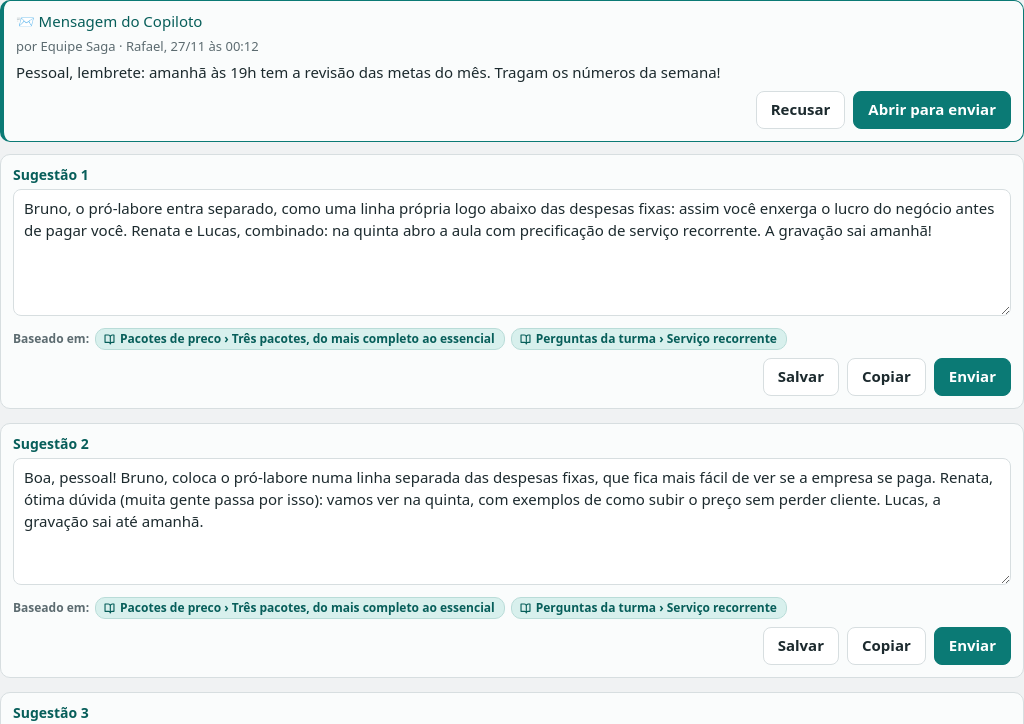
Scenario: Follow-up do Copiloto (v0.7.0) › "Recusar" pede o motivo (opcional) e tira o aviso
This screenshot has width=1024, height=724.
Step 1. Click the button "Recusar" → x=801, y=110, box [756,91,845,129]
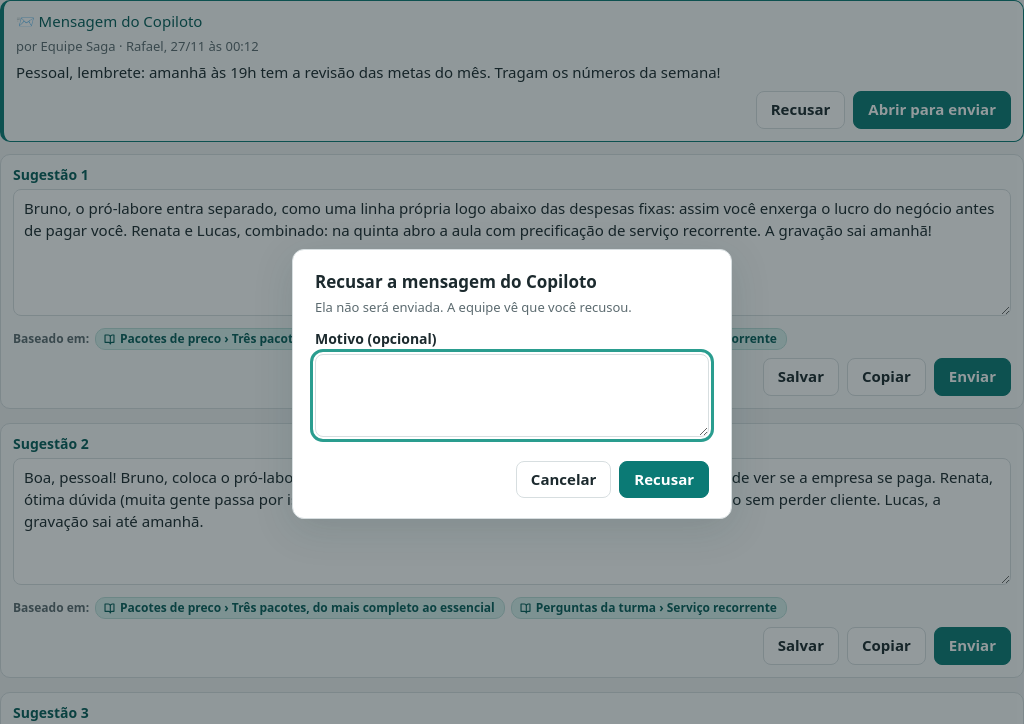
Step 2. Type "O encontro foi remarcado" into the text box labelled "Motivo (opcional)" → x=512, y=395, box [315,354,709,437]
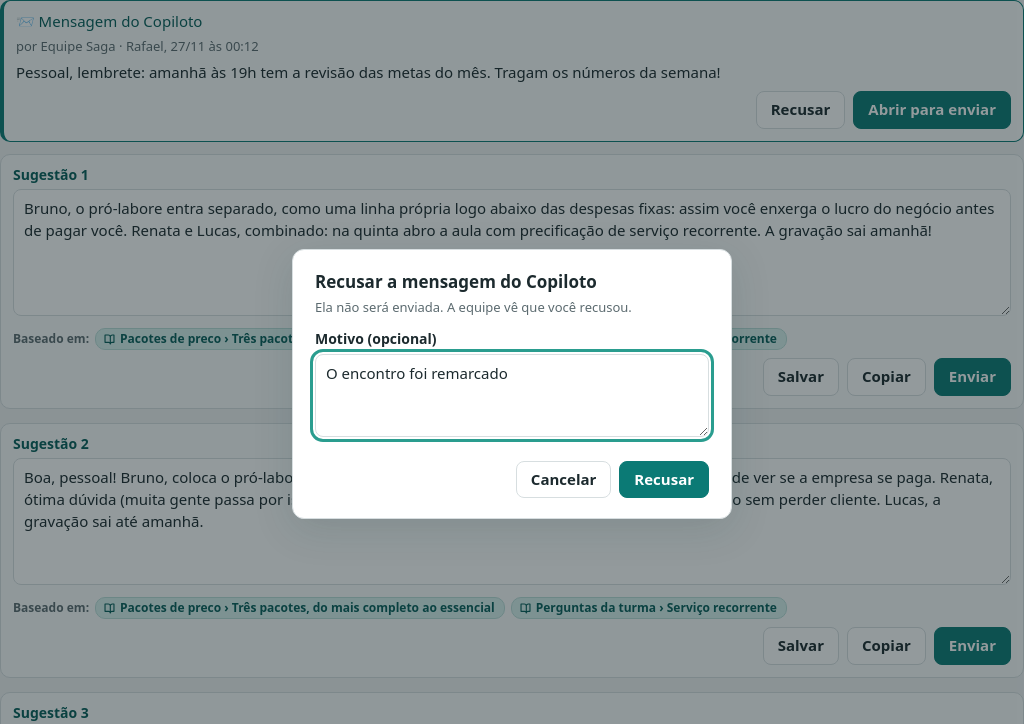
Step 3. Click the button "Recusar" → x=664, y=479, box [619,460,709,498]
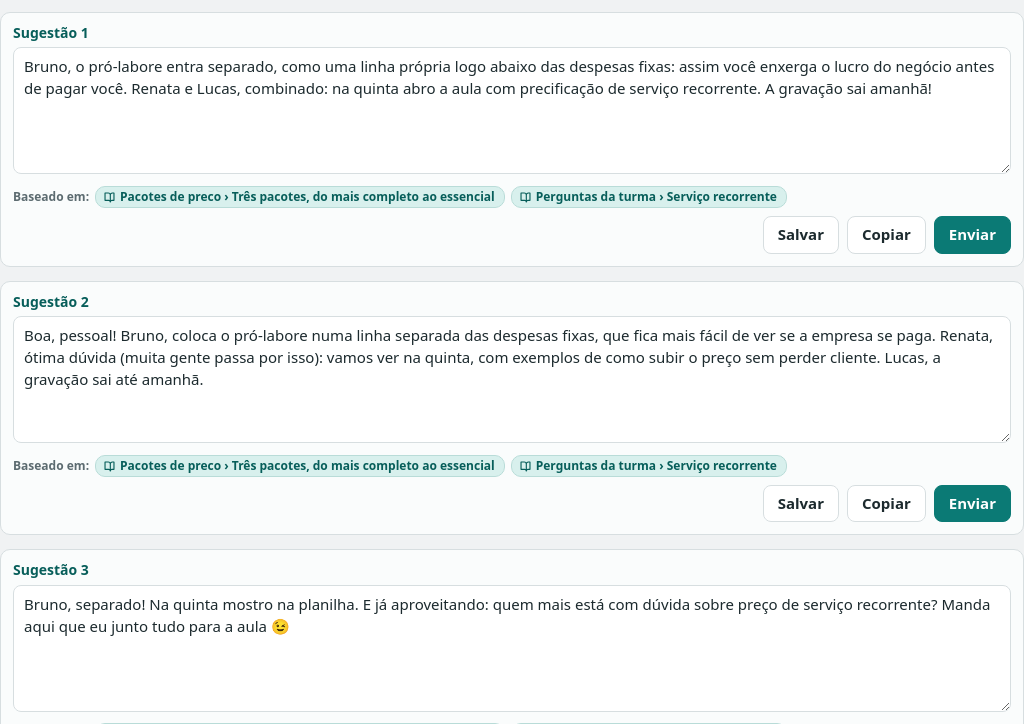
Expected: the text "Mensagem do Copiloto" is gone
